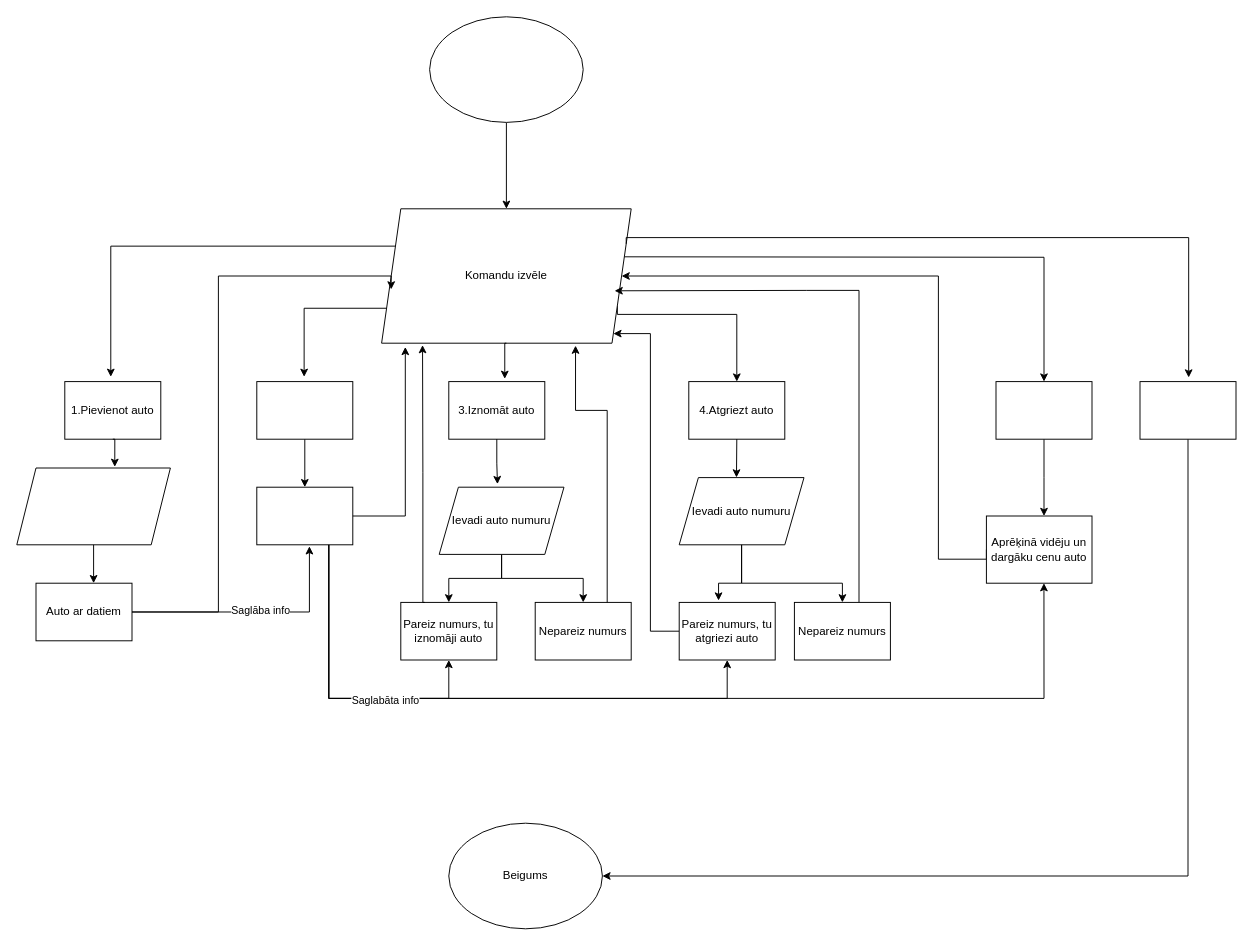
Image size: 1253x946. Some labels were removed from this diagram. Here are the shapes that lost their labels. From the top down, the centre of each, then its label:
point (506, 69): Sākums
point (304, 410): 2.Parādīt visas automašīnas
point (1043, 410): 5.Parādīt statistiku
point (1187, 410): 0. Iziet
point (93, 506): Ievadi auto datus (marka, modelis, gads, cena dienā
point (304, 515): Parāda visas pievienotas auto
